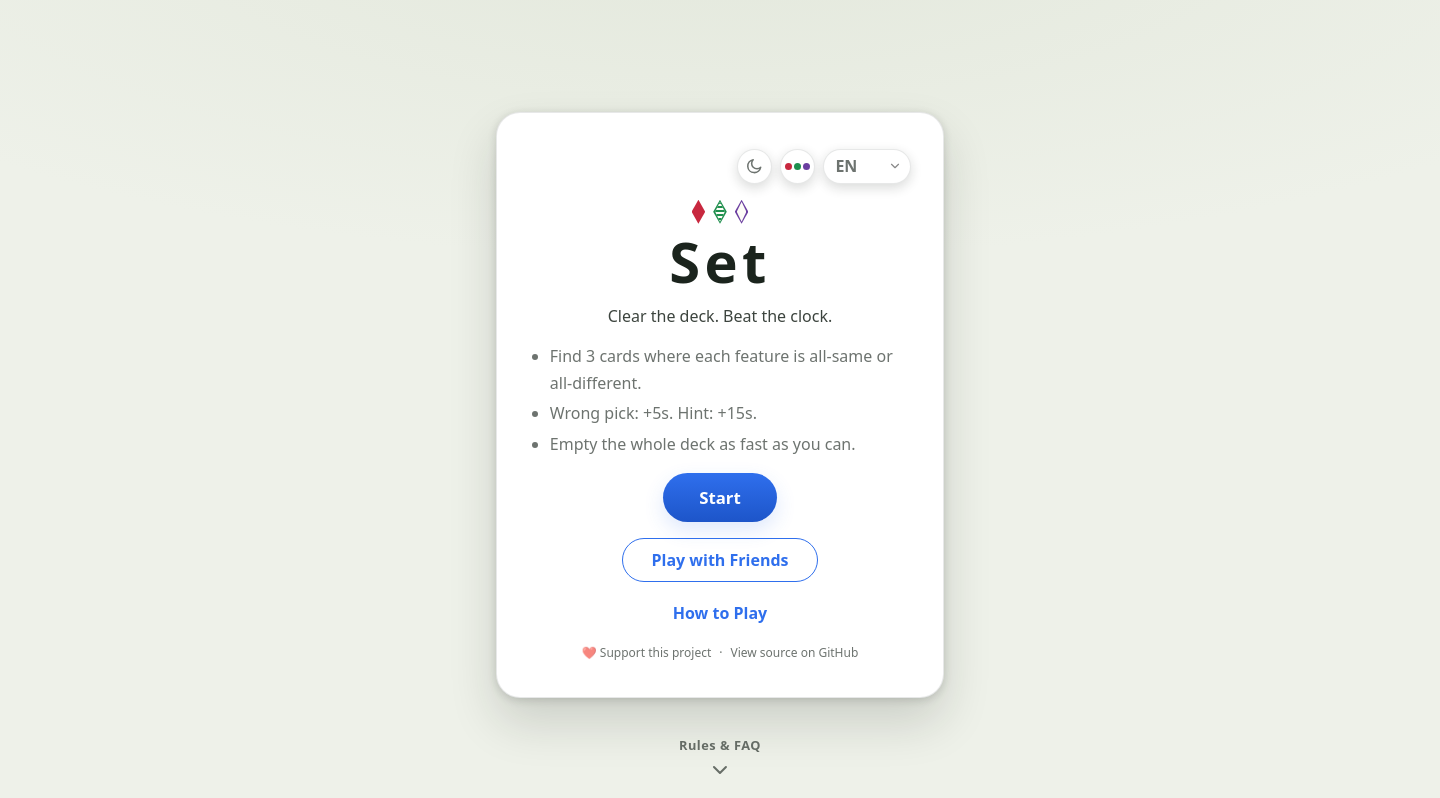
shows the start screen, then the board on Start
Click the button "Start": (720, 497) x1=663 y1=473 x2=777 y2=522
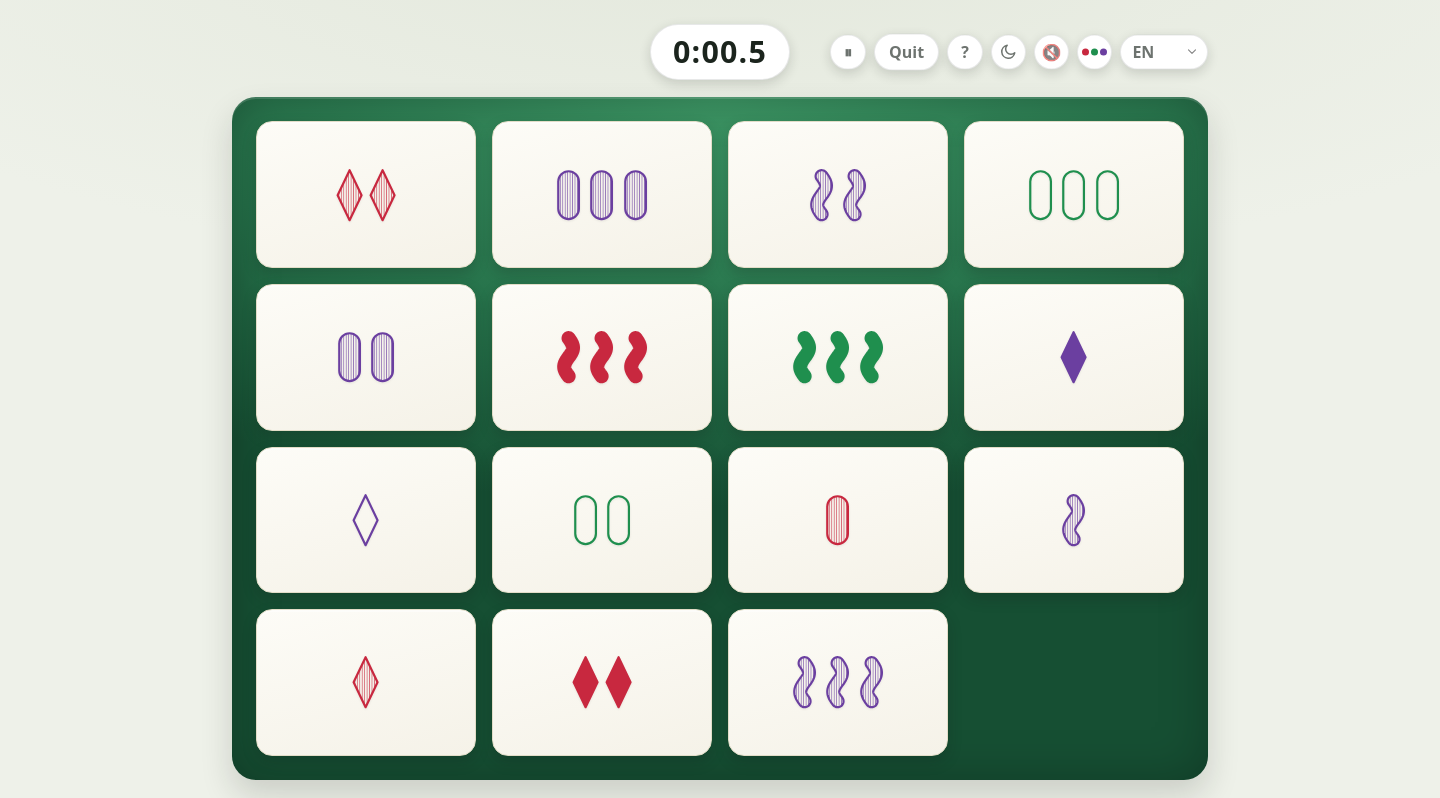
Expected: the text "0:00.5" is shown, x1=650 y1=24 x2=790 y2=80
